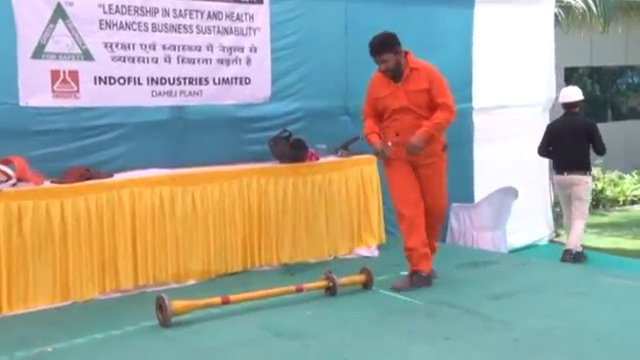helmet: (557, 84, 586, 105)
helmet_off: (368, 31, 407, 81)
helmet_on: (556, 83, 586, 117)
person: (358, 30, 457, 289), (538, 86, 608, 263)
